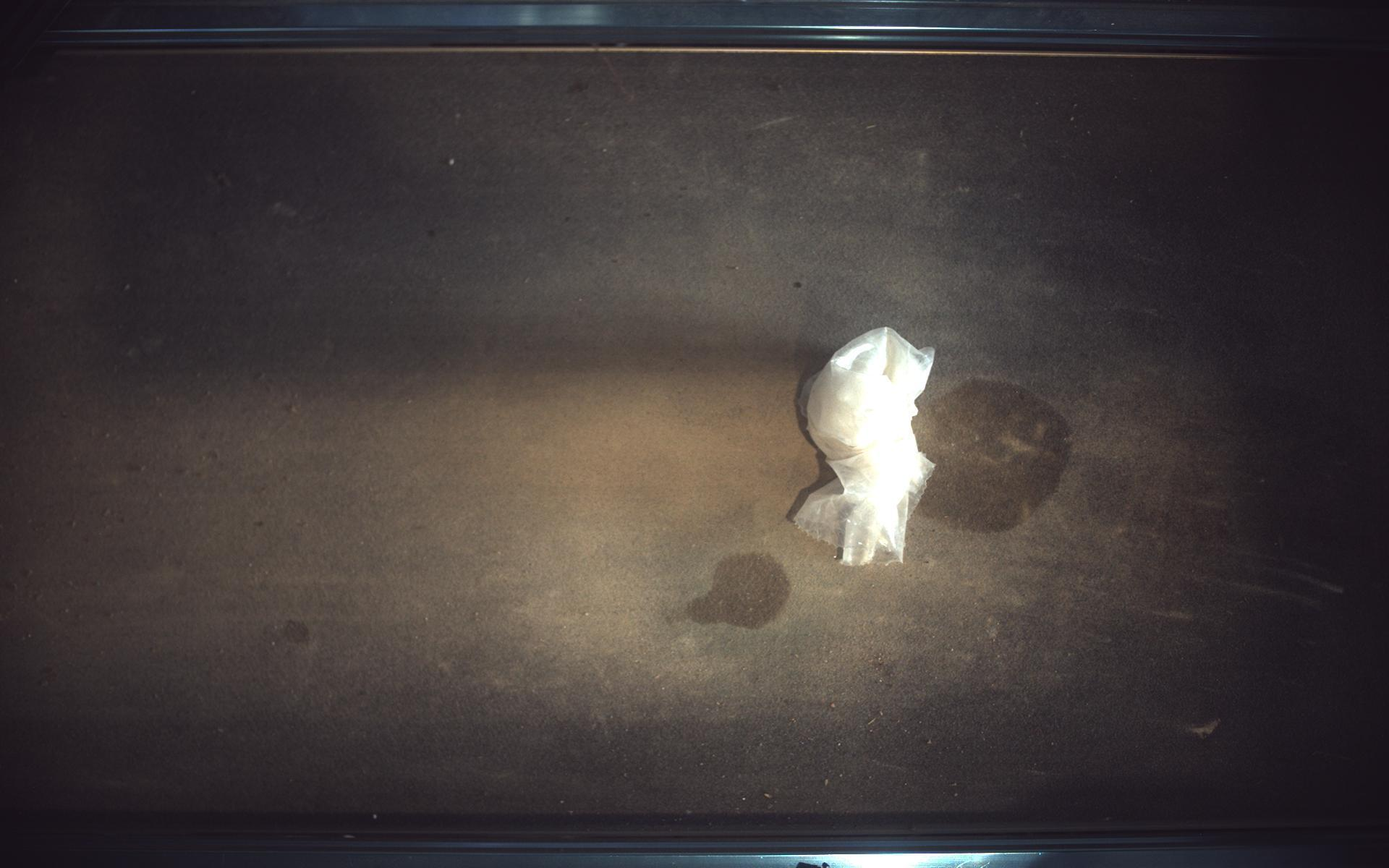general_w: (796, 327, 936, 566)
